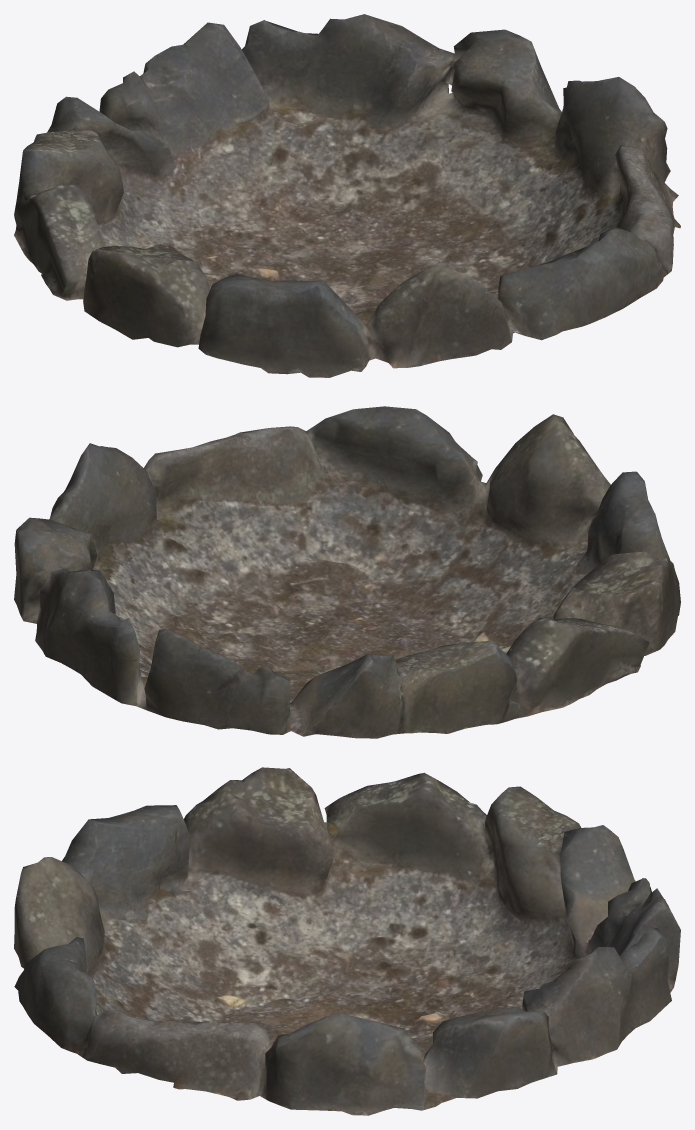
Rendered from stone_fire_pit.glb.
The picture shows the model from 3 angles, top to bottom: view 1: azimuth 30°, elevation 25°; view 2: azimuth 150°, elevation 25°; view 3: azimuth 270°, elevation 25°; orthographic projection.
Size of the model in its own units: 1.45 by 0.3883 by 1.43.
1 material, 1 textured.
